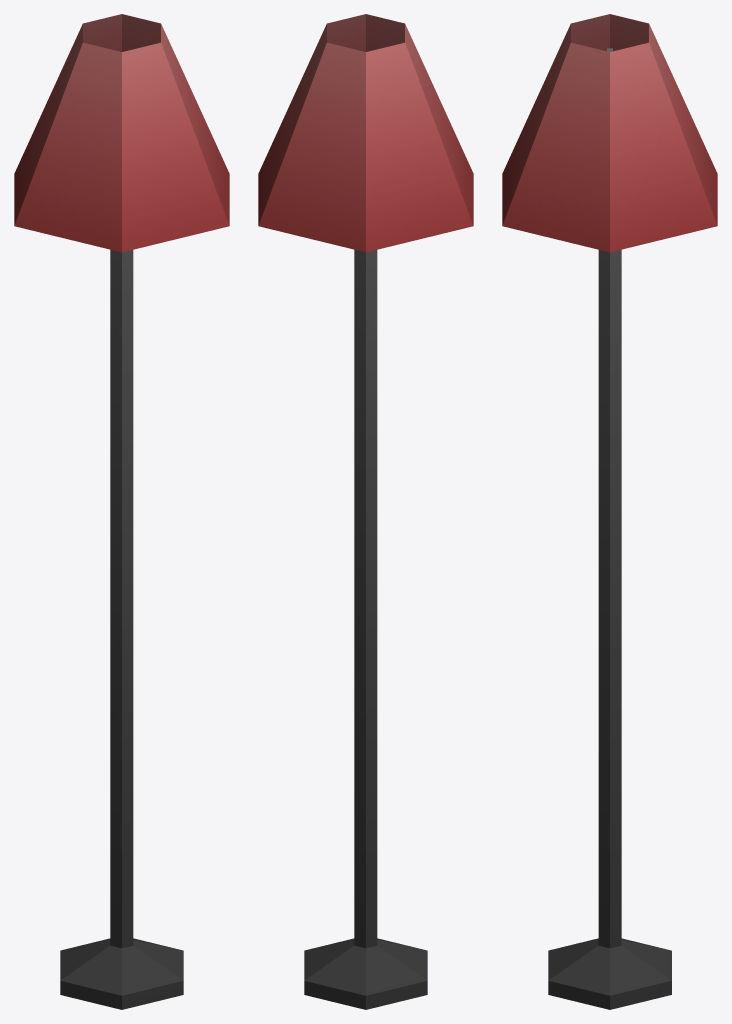
Rendered from lampada.fbx.
3 views of the same model, side by side, from view 1: azimuth 30°, elevation 25°; view 2: azimuth 150°, elevation 25°; view 3: azimuth 270°, elevation 25° (orthographic).
Visible parts, largest first — view 1: lampada; view 2: lampada; view 3: lampada.
Boxes of the visible parts, x1,y1,x2,y2 form: lampada: (14, 14, 229, 1009); lampada: (258, 14, 473, 1009); lampada: (502, 14, 717, 1009).
Size of the model in its own units: 87.6 by 368 by 75.86.
